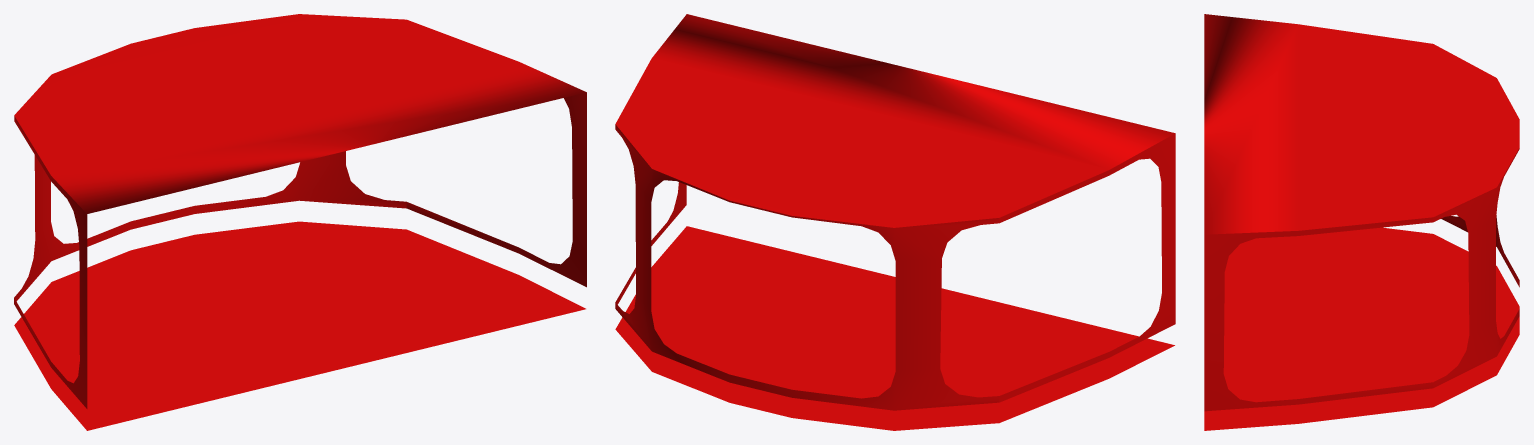
Rendered from Wall3_export.fbx.
The picture shows the model from 3 angles, left to right: view 1: azimuth 30°, elevation 25°; view 2: azimuth 150°, elevation 25°; view 3: azimuth 270°, elevation 25°; orthographic projection. The views are drawn at different scales.
Visible parts, largest first — view 1: walls; view 2: walls; view 3: walls.
Boxes of the visible parts, x1=… form: walls: x1=14, y1=14, x2=586, y2=430; walls: x1=615, y1=14, x2=1175, y2=430; walls: x1=1204, y1=14, x2=1519, y2=430.
Size of the model in its own units: 674 by 280 by 407.
